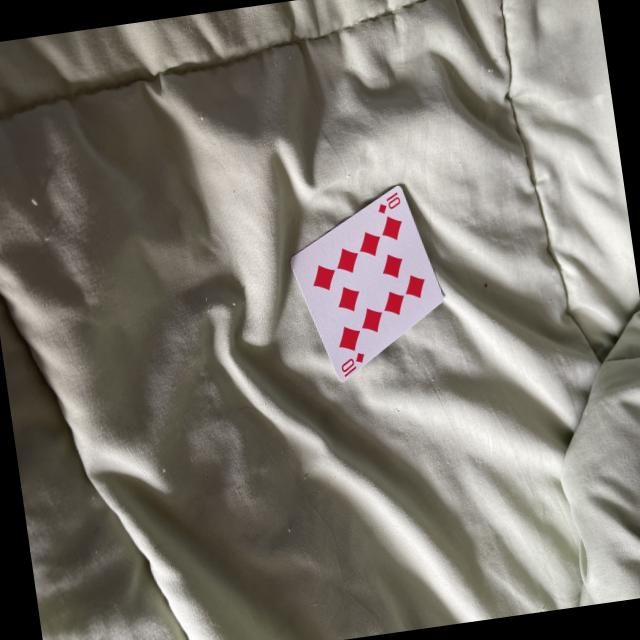10 of diamonds: (291, 186, 441, 386)
